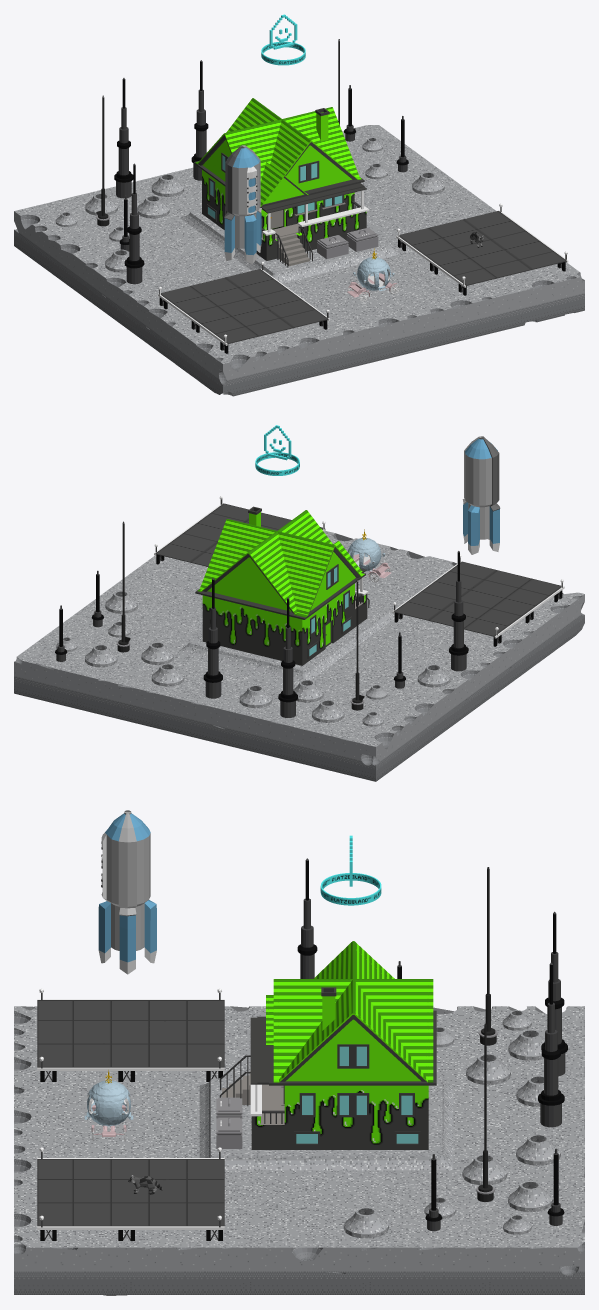
3 views of the same model, one above another, from view 1: azimuth 30°, elevation 25°; view 2: azimuth 150°, elevation 25°; view 3: azimuth 270°, elevation 25° (orthographic). The views are drawn at different scales.
Visible parts, largest first — view 1: Cube.027, Cube.754, Cube.025, Cube.026, OBJRANDOM_ROCKETSHIP, Cube.028, VEHICLES_FANTASY_CARRIAGE, Cylinder.020, Cylinder.021, Cylinder.017, TYPE_PREMIUM, Cube.030 (+5 smaller); view 2: Cube.027, Cube.754, Cube.025, OBJRANDOM_ROCKETSHIP, Cube.028, Cube.026, Cylinder.017, Cylinder.021, Cylinder.020, VEHICLES_FANTASY_CARRIAGE, TYPE_PREMIUM, Cylinder.018 (+9 smaller); view 3: Cube.027, Cube.754, Cube.025, Cube.026, Cube.028, OBJRANDOM_ROCKETSHIP, Cylinder.017, VEHICLES_FANTASY_CARRIAGE, Cylinder.020, TYPE_PREMIUM, Cylinder.021, Cylinder.033 (+11 smaller).
Boxes of the visible parts, left/top/right/bottom form: Cube.027: left=14, top=125, right=584, bottom=396; Cube.754: left=194, top=98, right=369, bottom=267; Cube.025: left=158, top=261, right=329, bottom=353; Cube.026: left=396, top=203, right=568, bottom=295; OBJRANDOM_ROCKETSHIP: left=224, top=145, right=261, bottom=264; Cube.028: left=181, top=209, right=399, bottom=283; VEHICLES_FANTASY_CARRIAGE: left=347, top=248, right=399, bottom=301; Cylinder.020: left=114, top=78, right=133, bottom=198; Cylinder.021: left=124, top=163, right=144, bottom=284; Cylinder.017: left=191, top=60, right=208, bottom=180; TYPE_PREMIUM: left=261, top=14, right=305, bottom=65; Cube.030: left=346, top=228, right=378, bottom=251; Cube.027: left=14, top=531, right=584, bottom=781; Cube.754: left=195, top=506, right=369, bottom=665; Cube.025: left=392, top=554, right=564, bottom=646; OBJRANDOM_ROCKETSHIP: left=462, top=436, right=500, bottom=554; Cube.028: left=179, top=604, right=394, bottom=681; Cube.026: left=154, top=496, right=325, bottom=566; Cylinder.017: left=203, top=578, right=222, bottom=698; Cylinder.021: left=449, top=551, right=468, bottom=671; Cylinder.020: left=278, top=597, right=297, bottom=717; VEHICLES_FANTASY_CARRIAGE: left=347, top=529, right=391, bottom=582; TYPE_PREMIUM: left=255, top=425, right=299, bottom=475; Cylinder.018: left=350, top=579, right=364, bottom=710; Cube.027: left=14, top=1006, right=584, bottom=1294; Cube.754: left=219, top=941, right=436, bottom=1149; Cube.025: left=37, top=988, right=224, bottom=1081; Cube.026: left=37, top=1147, right=224, bottom=1240; Cube.028: left=199, top=1078, right=453, bottom=1170; OBJRANDOM_ROCKETSHIP: left=98, top=810, right=156, bottom=974; Cylinder.017: left=538, top=962, right=564, bottom=1127; VEHICLES_FANTASY_CARRIAGE: left=84, top=1070, right=133, bottom=1141; Cylinder.020: left=541, top=911, right=567, bottom=1076; TYPE_PREMIUM: left=320, top=835, right=381, bottom=905; Cylinder.021: left=297, top=858, right=317, bottom=978; Cylinder.033: left=343, top=1207, right=388, bottom=1238.
Bounding box in the file's own units: 4000 × 2676 × 4000.
32 materials, 6 textured.
